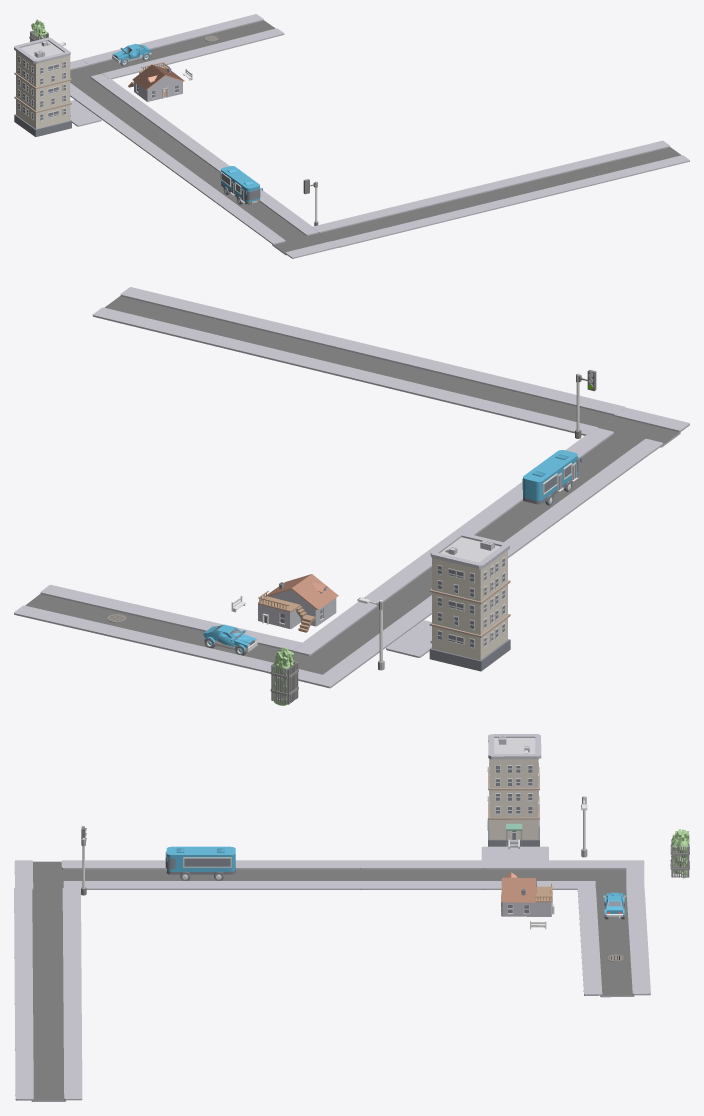
The model's file is city.glb.
The picture shows the model from 3 angles, top to bottom: view 1: azimuth 30°, elevation 25°; view 2: azimuth 150°, elevation 25°; view 3: azimuth 270°, elevation 25°; orthographic projection. The views are drawn at different scales.
Parts seen in each view (by area): view 1: street1.003, street1.001, house3, street1.002, house2, street3, bus, street2, street1, car1; view 2: street1.003, street1.001, house3, street1.002, house2, street3, bus, street2, car1, street1, garbage_bin, street4.001; view 3: street1.003, street1.001, street1.002, house3, bus, house2, street3, street2, street1, garbage_bin, bush.
Boxes of the visible parts, box(x1,y1,x2,y2) form: street1.003: box(312, 140, 689, 247); street1.001: box(70, 79, 311, 238); house3: box(14, 37, 71, 136); street1.002: box(81, 14, 284, 79); house2: box(128, 62, 184, 101); street3: box(265, 226, 338, 258); bus: box(220, 166, 262, 204); street2: box(70, 59, 109, 87); street1: box(70, 78, 123, 100); car1: box(112, 43, 151, 65); street1.003: box(92, 287, 625, 435); street1.001: box(303, 434, 652, 660); house3: box(429, 532, 510, 671); street1.002: box(14, 585, 303, 672); house2: box(258, 574, 338, 632); street3: box(589, 407, 689, 452); bus: box(522, 450, 581, 505); street2: box(266, 643, 367, 688); car1: box(202, 624, 257, 655); street1: box(303, 629, 386, 659); garbage_bin: box(270, 661, 298, 704); street4.001: box(386, 634, 431, 657); street1.003: box(14, 887, 82, 1101); street1.001: box(80, 860, 579, 889); street1.002: box(577, 887, 650, 997); house3: box(487, 734, 541, 849); bus: box(165, 846, 235, 880); house2: box(501, 872, 554, 916); street3: box(14, 860, 81, 889); street2: box(578, 860, 644, 888); street1: box(544, 860, 578, 889); garbage_bin: box(670, 840, 689, 877); bush: box(670, 829, 689, 878).
Size of what is drawn, in the model's own units: 40.56 by 6.64 by 41.67.
